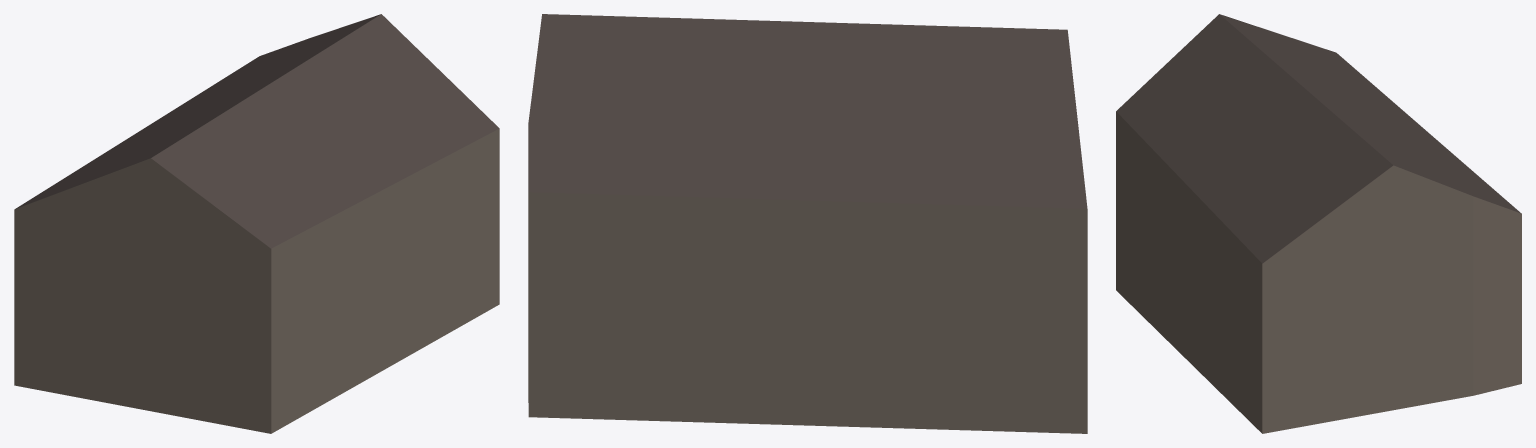
3 views of the same model, side by side, from view 1: azimuth 30°, elevation 25°; view 2: azimuth 150°, elevation 25°; view 3: azimuth 270°, elevation 25° (orthographic). The views are drawn at different scales.
Visible parts, largest first — view 1: HP-w1196417813; view 2: HP-w1196417813; view 3: HP-w1196417813.
Boxes of the visible parts, box(x1,y1,x2,y2) form: HP-w1196417813: box(14, 14, 499, 433); HP-w1196417813: box(528, 14, 1087, 433); HP-w1196417813: box(1116, 14, 1521, 433).
Bounding box in the file's own units: 23.93 × 12.94 × 19.44.
